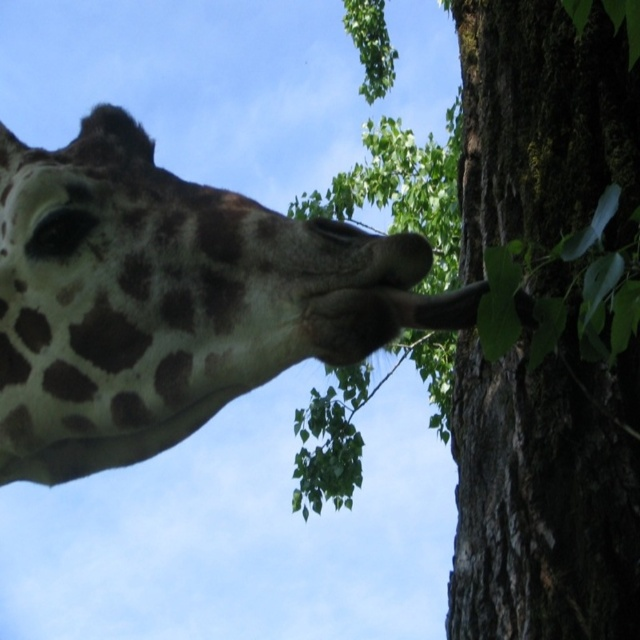Giraffe: (6, 79, 482, 527)
